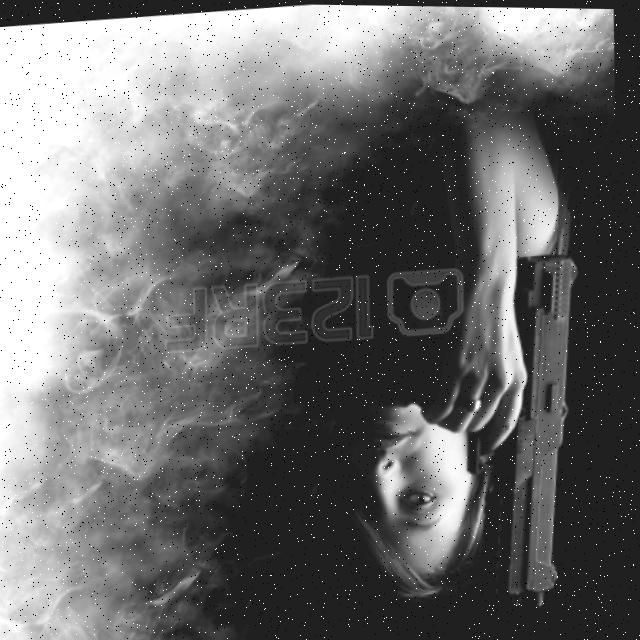firearm: (447, 250, 610, 610)
